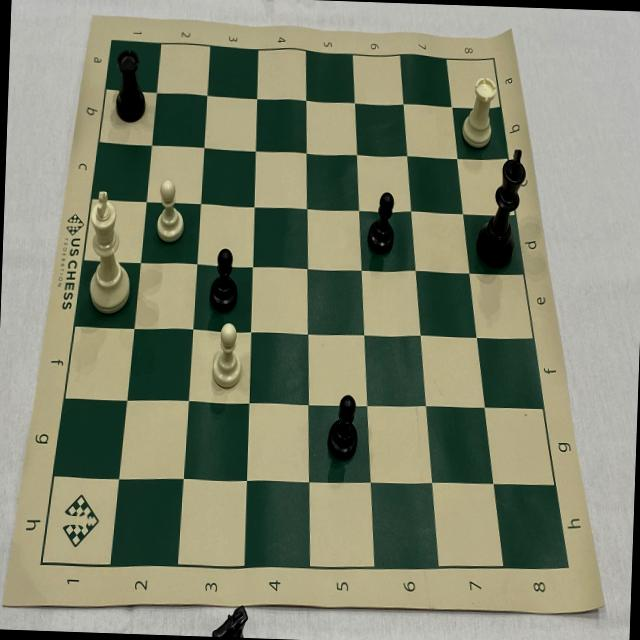black-king: (470, 142, 532, 279)
black-pawn: (318, 384, 365, 472), (358, 183, 402, 262), (201, 240, 244, 314)
black-rook: (106, 41, 152, 130)
white-king: (77, 181, 141, 322)
white-pawn: (204, 318, 250, 396), (149, 174, 191, 252)
white-rook: (455, 69, 500, 159)
